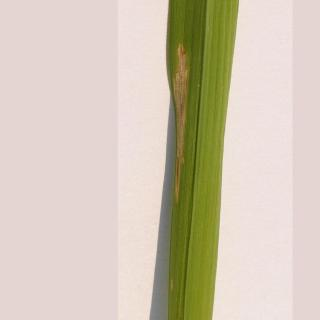Hawar-Daun: (162, 38, 205, 202)
